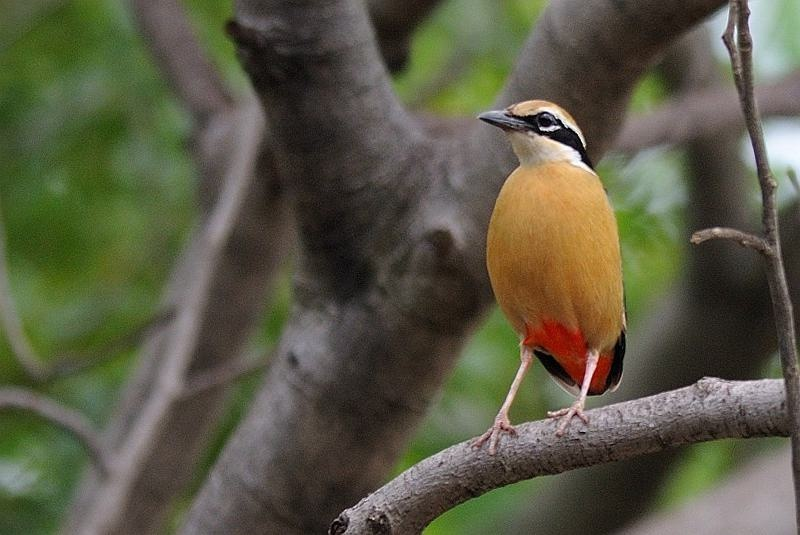pitta: (448, 76, 672, 461)
